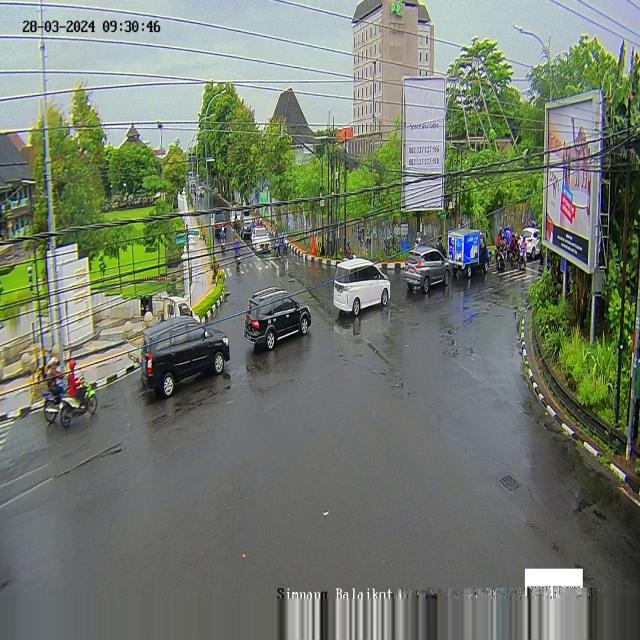car: (143, 319, 233, 399), (245, 289, 312, 349), (333, 258, 393, 320), (404, 248, 451, 297), (517, 227, 542, 258), (251, 227, 270, 252), (211, 210, 227, 238)
motorcycle: (61, 358, 99, 431), (39, 351, 67, 419), (518, 235, 528, 268), (232, 238, 240, 266), (273, 229, 281, 256), (282, 227, 288, 255), (219, 228, 225, 254)
truck: (446, 230, 490, 276)
